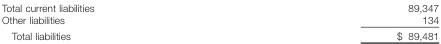table: (0, 1, 438, 41)
table column: (0, 1, 244, 41), (244, 1, 438, 41)
table row: (0, 13, 438, 27), (0, 27, 438, 41), (0, 1, 438, 13)
